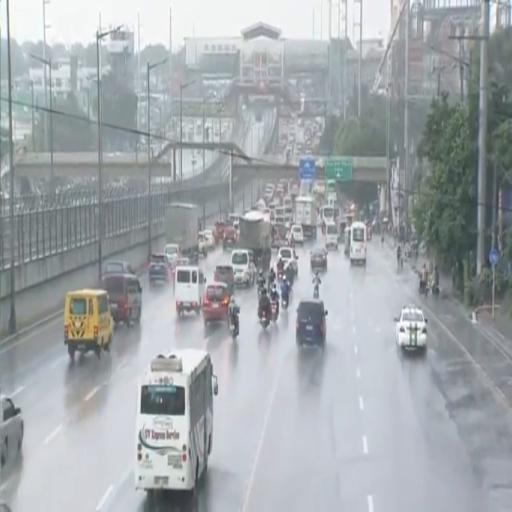bus: (135, 349, 217, 491), (349, 221, 366, 264), (322, 205, 334, 222)
car: (102, 275, 142, 326), (0, 395, 23, 466), (296, 299, 327, 349), (394, 306, 427, 350), (203, 282, 230, 326), (231, 249, 255, 286), (149, 253, 172, 284), (277, 247, 297, 275), (214, 265, 233, 294), (102, 261, 135, 276), (170, 258, 190, 280), (310, 248, 327, 270), (223, 227, 237, 250), (213, 221, 226, 243), (290, 224, 303, 244), (203, 230, 215, 250), (164, 244, 180, 259), (198, 232, 207, 257)
motorcycle: (228, 314, 240, 339), (260, 311, 270, 329), (419, 281, 429, 297), (271, 301, 278, 323), (430, 282, 440, 297), (282, 294, 288, 309), (258, 283, 264, 298), (277, 269, 283, 282), (313, 284, 318, 298)
truck: (238, 210, 272, 271), (164, 203, 198, 261), (294, 196, 317, 238)
